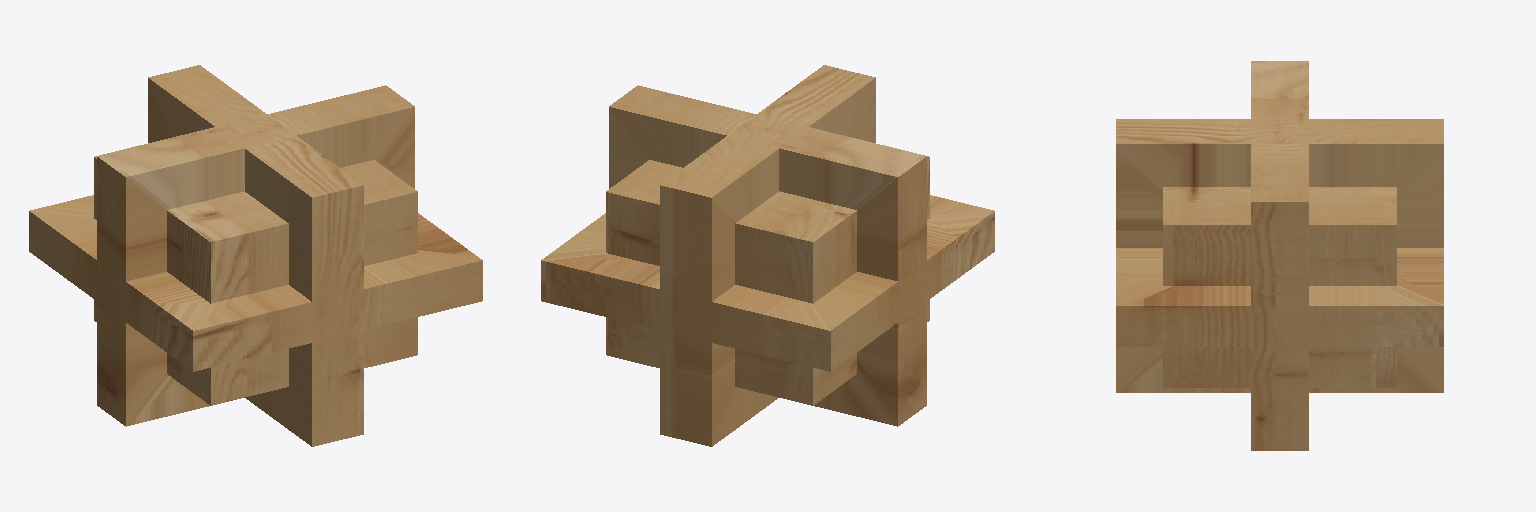
3 renders of one model, left to right at view 1: azimuth 30°, elevation 25°; view 2: azimuth 150°, elevation 25°; view 3: azimuth 270°, elevation 25°, orthographic.
Visible parts, largest first — view 1: Default; view 2: Default; view 3: Default.
Part boxes in pixels (x1,y1,x2,y2): Default: (29,65,482,446); Default: (541,65,994,446); Default: (1116,61,1443,450).
Bounding box in the file's own units: 6.63 × 5.46 × 6.52.
1 materials, 1 textured.